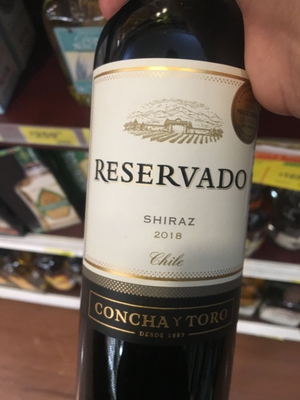reservado shiraz: (78, 20, 253, 400)
